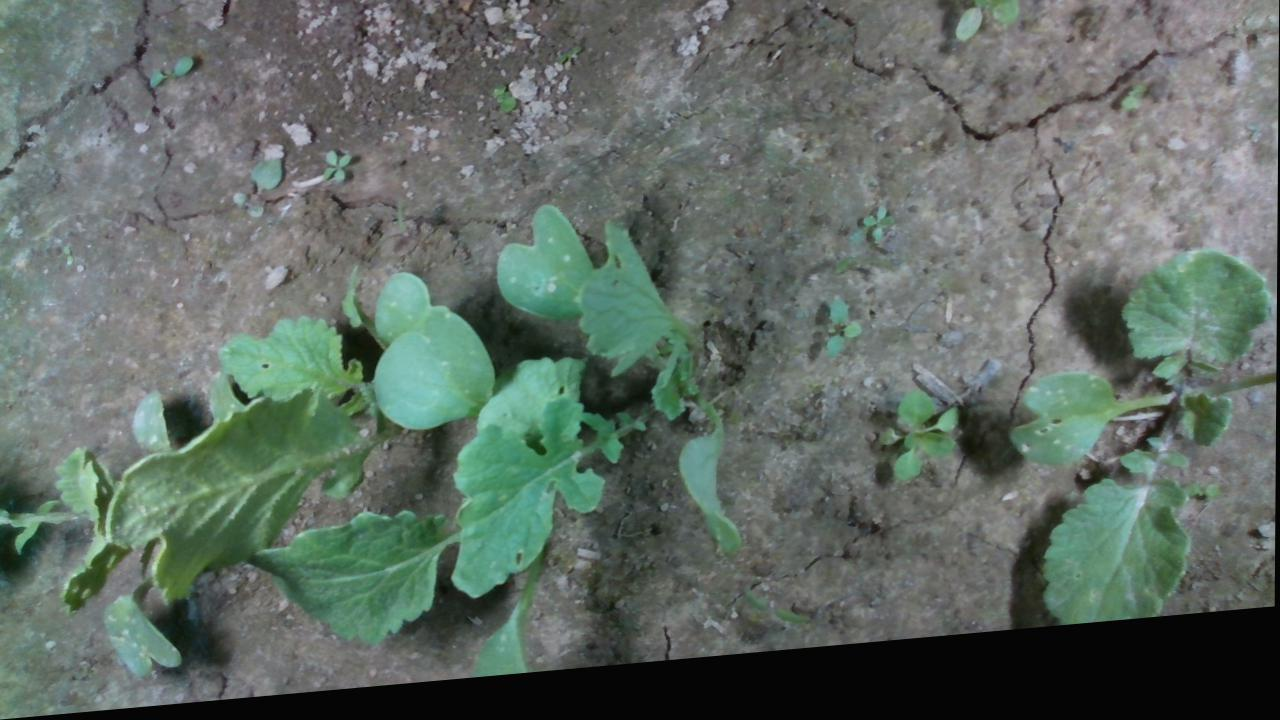weed: (819, 307, 862, 377), (141, 57, 207, 91), (320, 150, 357, 193), (858, 217, 887, 262)
